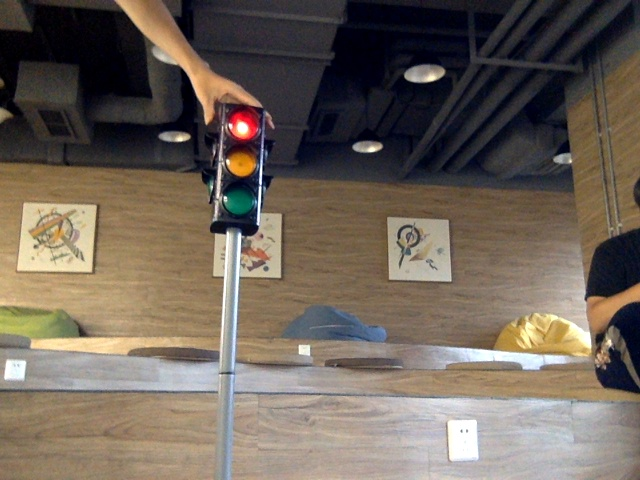red: (220, 110, 258, 222)
